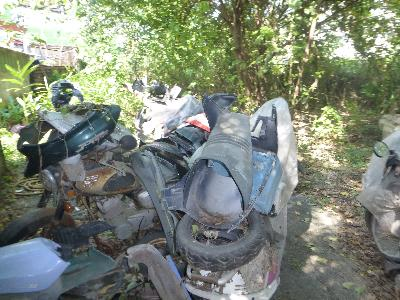bowl: (16, 102, 123, 176)
tire: (174, 199, 265, 272)
